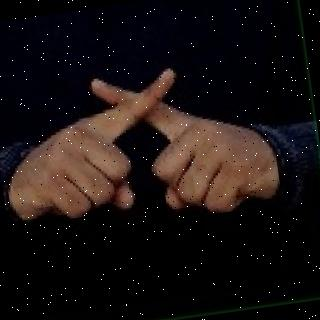X: (28, 54, 254, 240)
